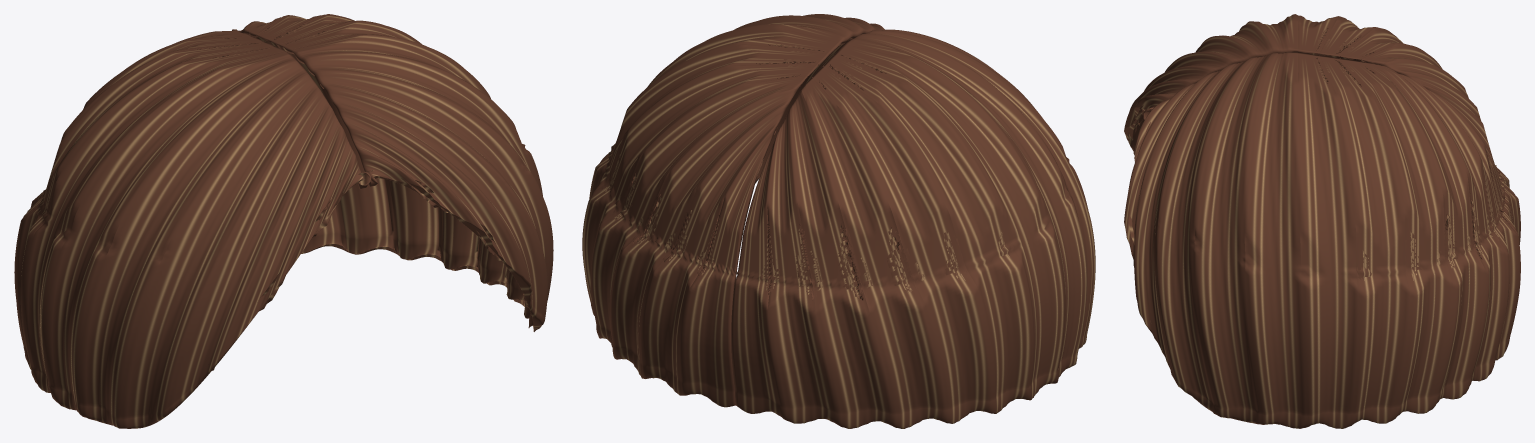
The model's file is Highlights-22ff1a42438c252-hair.glb.
3 renders of one model, left to right at view 1: azimuth 30°, elevation 25°; view 2: azimuth 150°, elevation 25°; view 3: azimuth 270°, elevation 25°, orthographic. The views are drawn at different scales.
Visible parts, largest first — view 1: 226 hair / Hair252 / flowing sculpt middle.001; view 2: 226 hair / Hair252 / flowing sculpt middle.001; view 3: 226 hair / Hair252 / flowing sculpt middle.001.
Part boxes in pixels (x1,y1,x2,y2): 226 hair / Hair252 / flowing sculpt middle.001: (14, 14, 553, 428); 226 hair / Hair252 / flowing sculpt middle.001: (582, 14, 1095, 428); 226 hair / Hair252 / flowing sculpt middle.001: (1124, 14, 1520, 428).
Bounding box in the file's own units: 1.06 × 0.6518 × 0.8322.
1 material, 1 textured.
